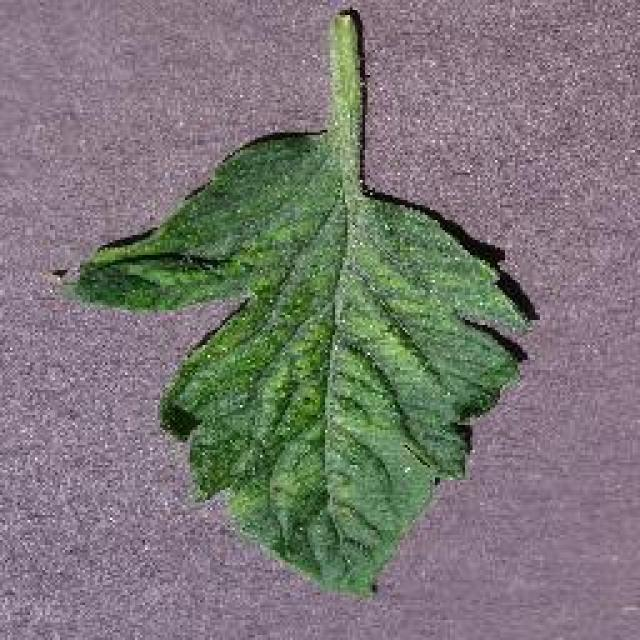Tomato___Tomato_mosaic_virus: (69, 12, 532, 592)
